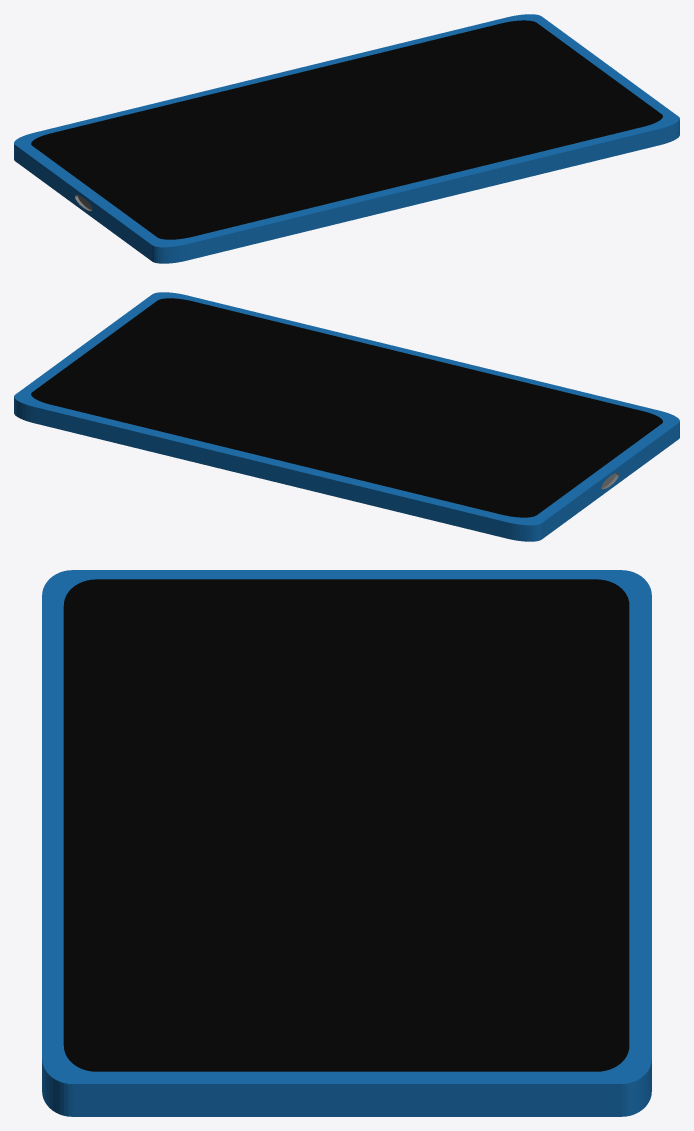
Rendered from smartphone.fbx.
The picture shows the model from 3 angles, top to bottom: view 1: azimuth 30°, elevation 25°; view 2: azimuth 150°, elevation 25°; view 3: azimuth 270°, elevation 25°; orthographic projection. The views are drawn at different scales.
Visible parts, largest first — view 1: 本体; view 2: 本体; view 3: 本体.
Boxes of the visible parts, x1,y1,x2,y2 form: 本体: [14, 14, 679, 263]; 本体: [14, 292, 679, 541]; 本体: [42, 570, 651, 1116].
Size of the model in its own units: 3.99 by 0.1268 by 2.
